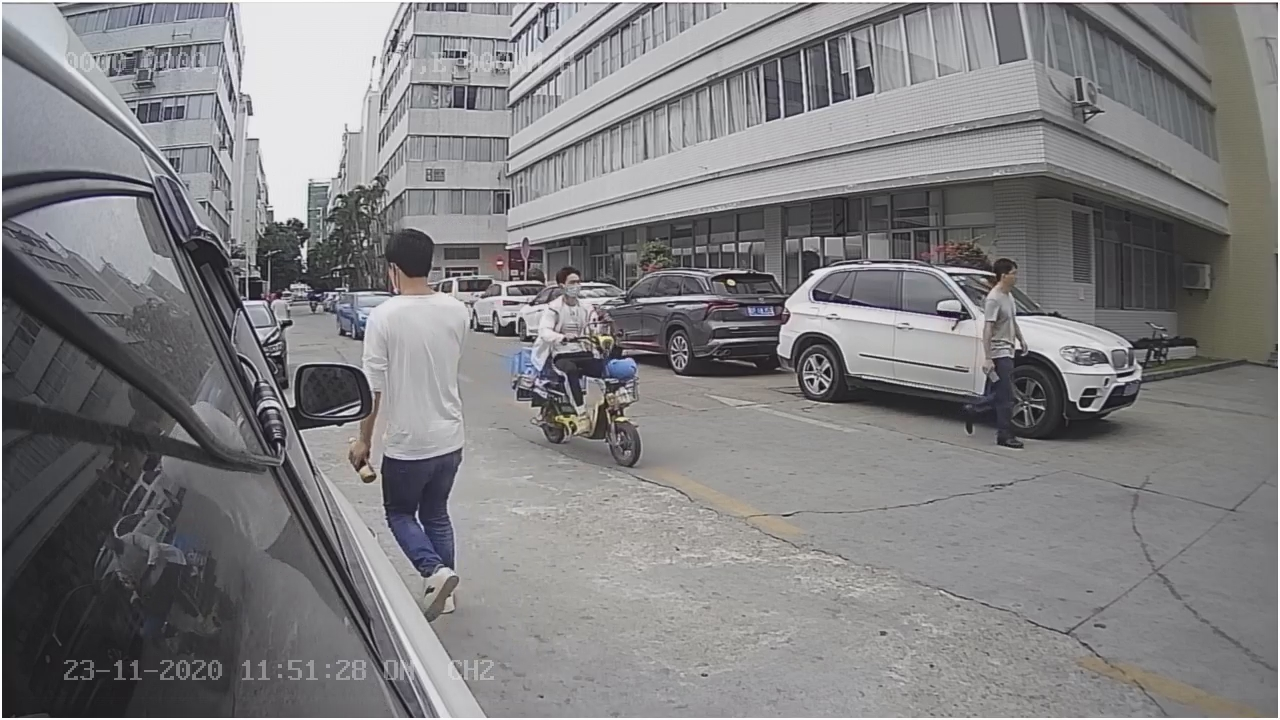person: (356, 226, 471, 367), (963, 257, 1045, 448), (528, 259, 608, 337)
